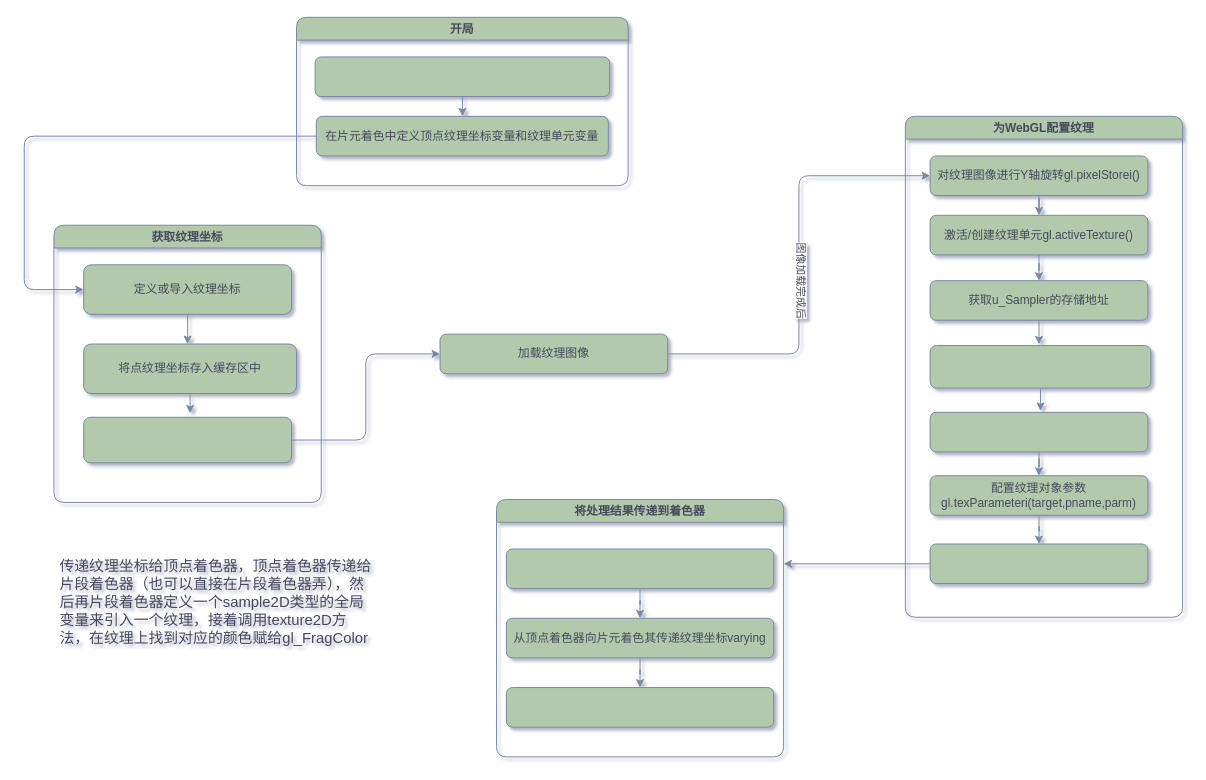
This 1206x780 diagram has some shape labels left out. Each missing label, with the centre of its shape:
"从缓存取中取出纹理坐标" belongs at (187,439).
"创建纹理对象gl.createTexture()" belongs at (1040,366).
"在片元着色器中获取纹理像素texture2D()" belongs at (639,707).
"在顶点着色器中定义纹理坐标变量attribute" belongs at (462,76).
"将图像分配给纹理图像gl.textImage2D" belongs at (1038,563).
"将纹理单元传递给片元着色器sampler2D" belongs at (639,568).
"绑定纹理对象，将纹理对象绑定到纹理单元上gl.bindTexture()" belongs at (1038,431).
